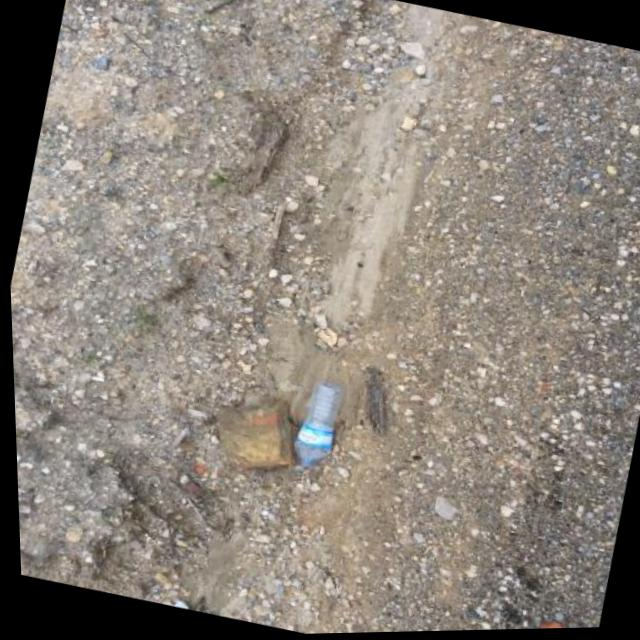plastic: (286, 377, 349, 472)
